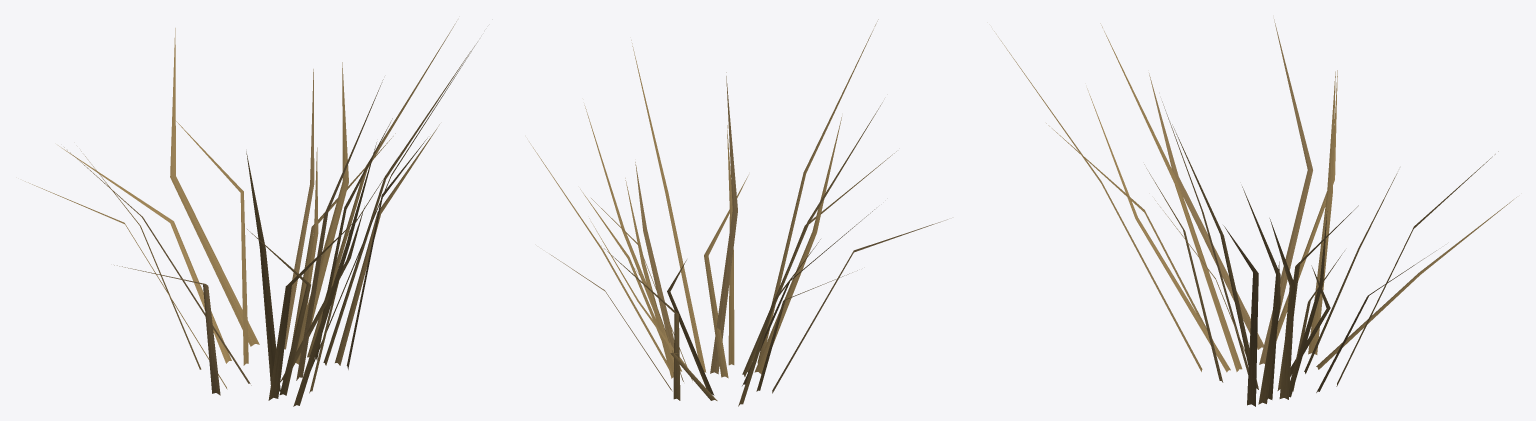
Rendered from SM_CN_Grass_A_LOD2.fbx.
3 renders of one model, left to right at view 1: azimuth 30°, elevation 25°; view 2: azimuth 150°, elevation 25°; view 3: azimuth 270°, elevation 25°, orthographic. The views are drawn at different scales.
Visible parts, largest first — view 1: SM_CN_Grass_A_LOD2; view 2: SM_CN_Grass_A_LOD2; view 3: SM_CN_Grass_A_LOD2.
Part boxes in pixels (box(x1,y1,x2,y2)): SM_CN_Grass_A_LOD2: box(25, 21, 477, 406); SM_CN_Grass_A_LOD2: box(529, 19, 947, 406); SM_CN_Grass_A_LOD2: box(994, 19, 1516, 406).
Bounding box in the file's own units: 0.5577 × 0.62 × 0.43.
